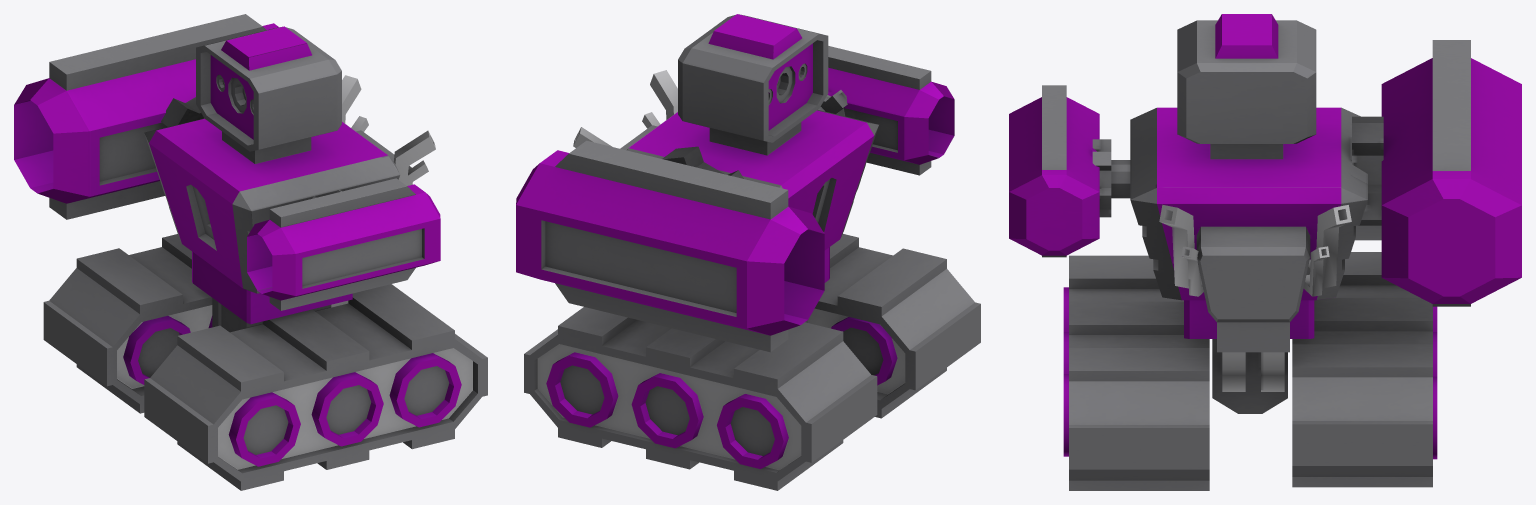
Rendered from Enemy2_Move10.obj.
3 views of the same model, side by side, from view 1: azimuth 30°, elevation 25°; view 2: azimuth 150°, elevation 25°; view 3: azimuth 270°, elevation 25° (orthographic). The views are drawn at different scales.
Parts seen in each view (by area): view 1: Object006, Object007, Object010, Object009; view 2: Object006, Object007, Object010, Object009; view 3: Object006, Object007, Object010, Object009, Object008.
Boxes of the visible parts, <box> form: Object006: <box>14,14,487,490</box>; Object007: <box>144,26,399,332</box>; Object010: <box>331,75,435,307</box>; Object009: <box>161,97,203,126</box>; Object006: <box>516,46,980,490</box>; Object007: <box>627,14,878,322</box>; Object010: <box>573,70,677,150</box>; Object009: <box>662,146,743,178</box>; Object006: <box>1009,40,1521,490</box>; Object007: <box>1130,14,1367,413</box>; Object010: <box>1159,204,1351,391</box>; Object009: <box>1352,116,1383,240</box>; Object008: <box>1092,139,1130,217</box>.
Size of the model in its own units: 87.45 by 108 by 125.
